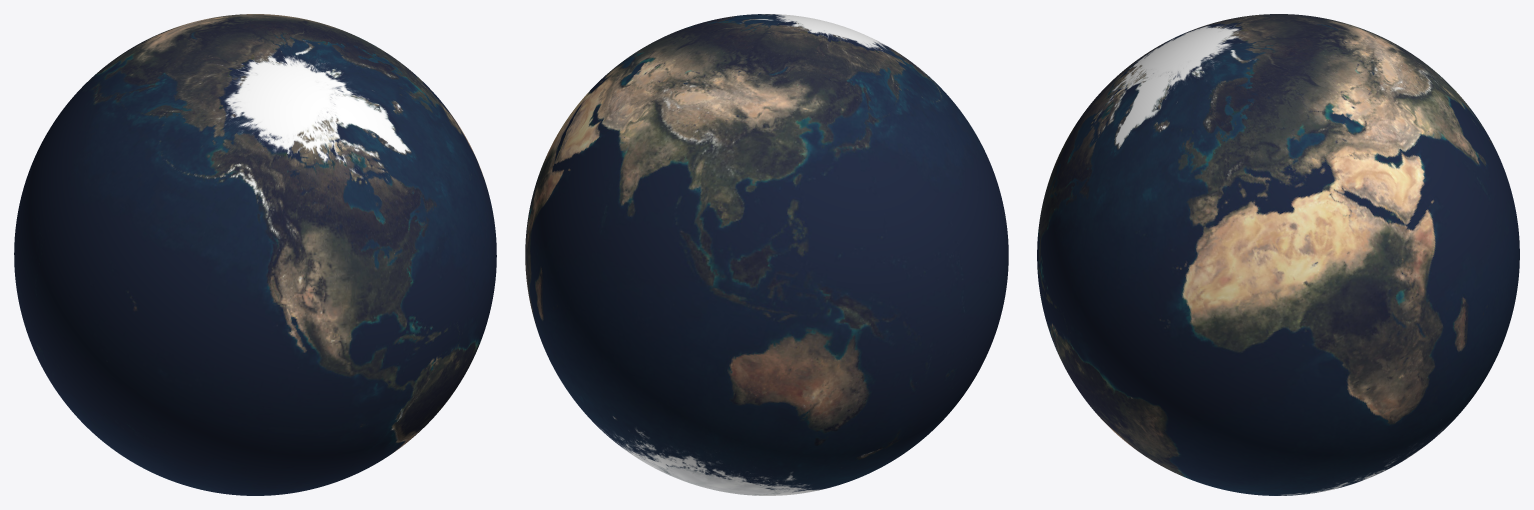
File: 3_earth.gltf
3 renders of one model, left to right at view 1: azimuth 30°, elevation 25°; view 2: azimuth 150°, elevation 25°; view 3: azimuth 270°, elevation 25°, orthographic.
Visible parts, largest first — view 1: Earth_globe; view 2: Earth_globe; view 3: Earth_globe.
Part boxes in pixels (x1=…): Earth_globe: x1=14, y1=14, x2=496, y2=495; Earth_globe: x1=525, y1=14, x2=1008, y2=495; Earth_globe: x1=1037, y1=14, x2=1519, y2=495.
Size of the model in its own units: 12.76 by 12.72 by 12.75.
1 material, 1 textured.
